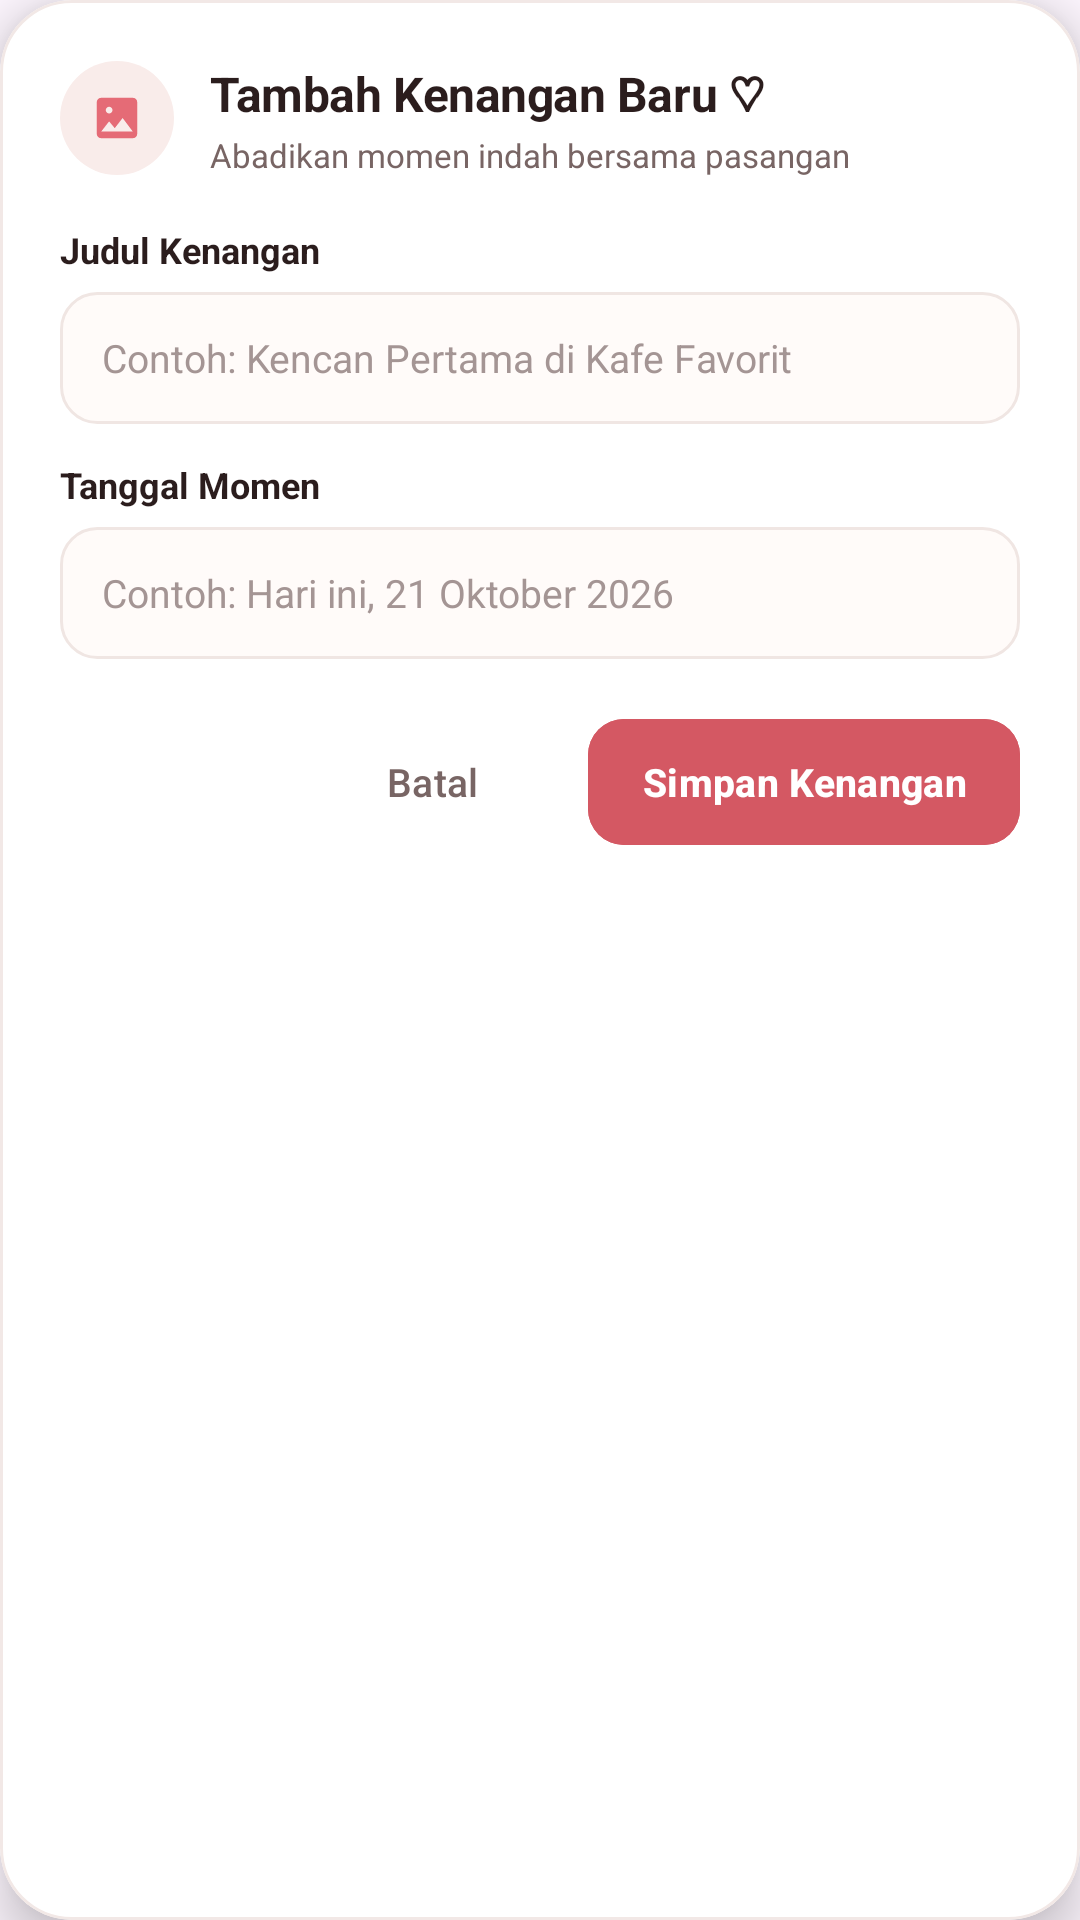

Screen size 1080×1920. Icon name, then its box in pixels as (x1, y1, x2, y2):
gallery: (96, 97, 138, 139)
